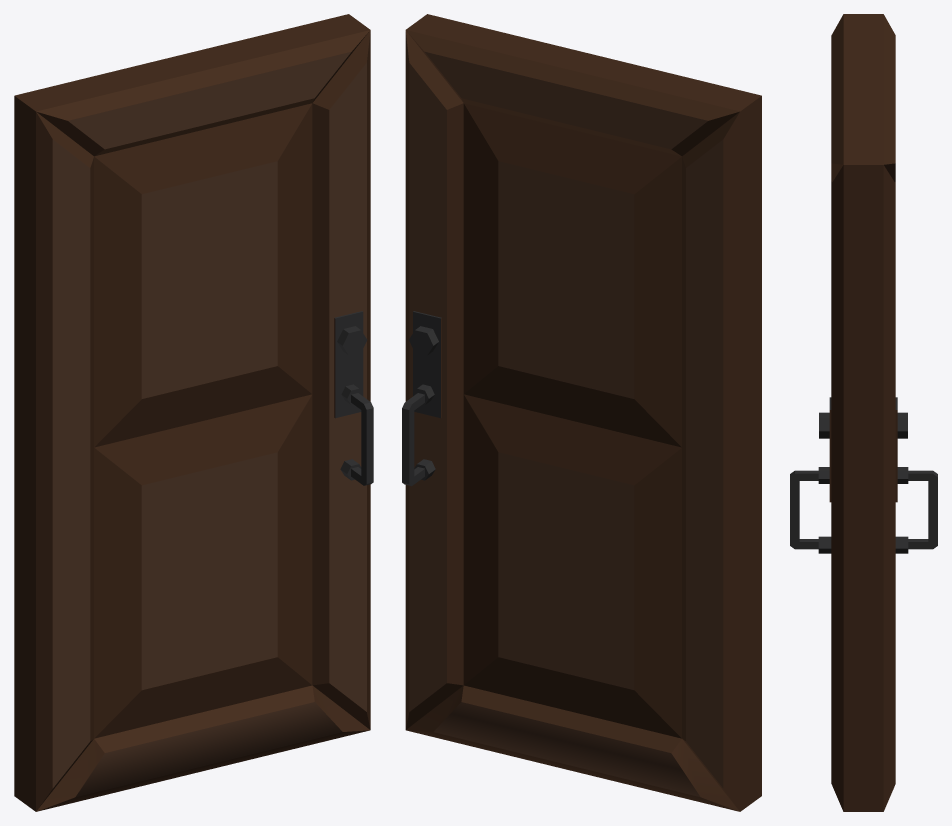
File: door.glb
3 renders of one model, left to right at view 1: azimuth 30°, elevation 25°; view 2: azimuth 150°, elevation 25°; view 3: azimuth 270°, elevation 25°, orthographic. The views are drawn at different scales.
Visible parts, largest first — view 1: Door1; view 2: Door1; view 3: Door1.
Part boxes in pixels (bbox=[...]): Door1: bbox=[14, 14, 373, 811]; Door1: bbox=[402, 14, 761, 811]; Door1: bbox=[790, 14, 937, 811].
Size of what is drawn, in the model's own units: 1.56 by 3.12 by 0.6454.
1 material, 1 textured.
